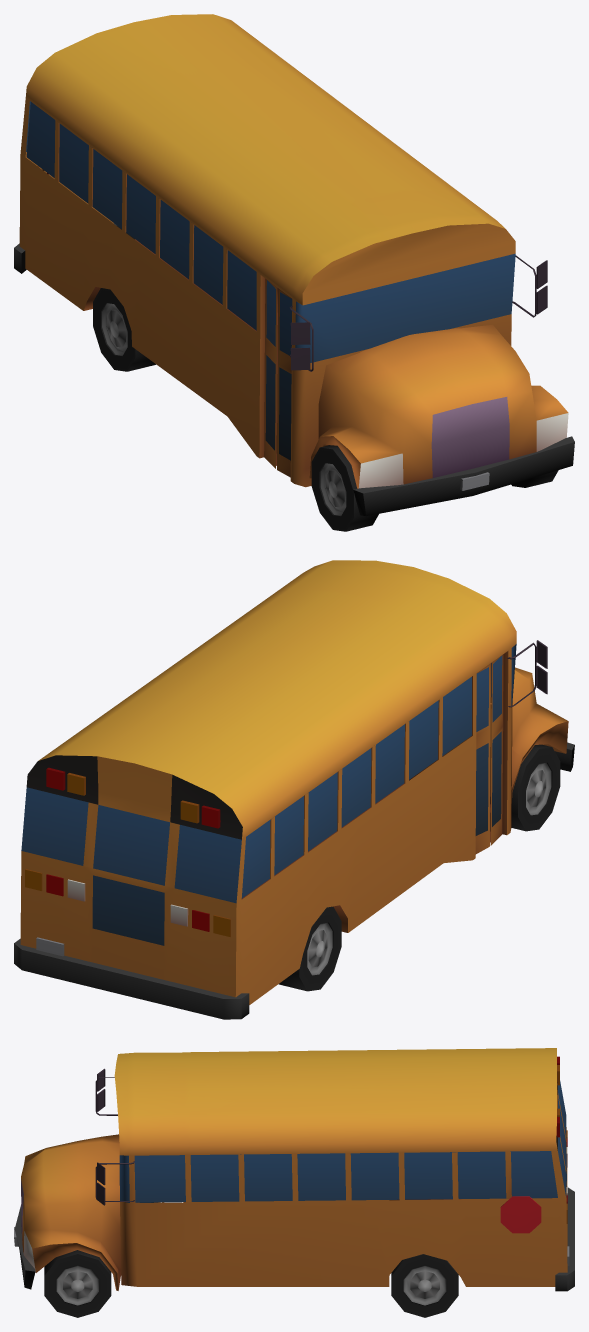
File: vehicles-buses-trains-school-bus_v1.fbx
3 views of the same model, one above another, from view 1: azimuth 30°, elevation 25°; view 2: azimuth 150°, elevation 25°; view 3: azimuth 270°, elevation 25° (orthographic). The views are drawn at different scales.
Parts seen in each view (by area): view 1: School Bus; view 2: School Bus; view 3: School Bus.
Boxes of the visible parts, x1,y1,x2,y2 form: School Bus: (14,14,574,531); School Bus: (14,560,574,1019); School Bus: (14,1048,574,1317).
Bounding box in the file's own units: 4.62 × 4.5 × 11.
